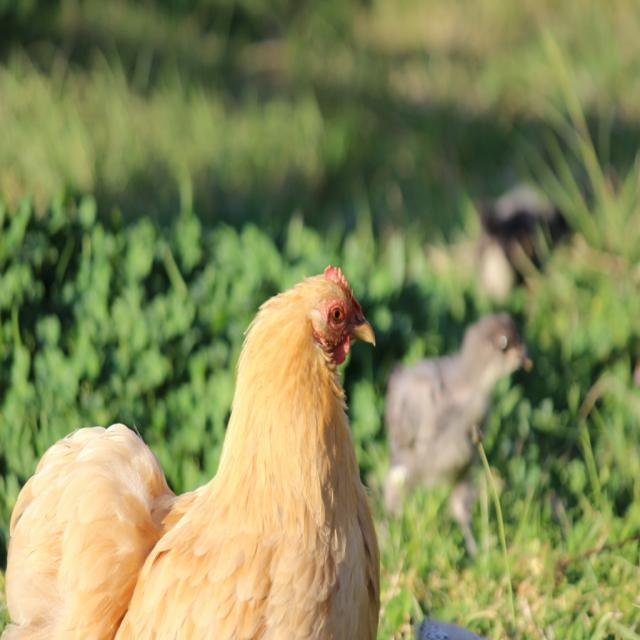Chicken: (7, 263, 382, 639)
